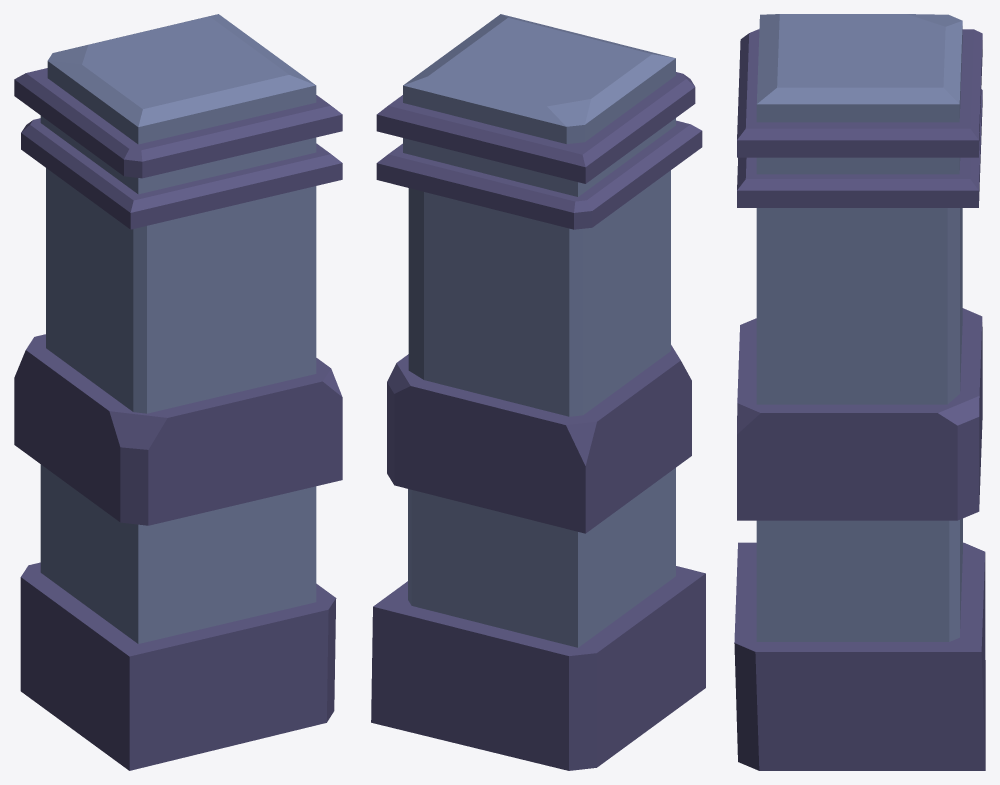
The model's file is Fence_Column_03.fbx.
3 renders of one model, left to right at view 1: azimuth 30°, elevation 25°; view 2: azimuth 150°, elevation 25°; view 3: azimuth 270°, elevation 25°, orthographic. The views are drawn at different scales.
Visible parts, largest first — view 1: Fence_Column_03; view 2: Fence_Column_03; view 3: Fence_Column_03.
Part boxes in pixels (x1,y1,x2,y2): Fence_Column_03: [14, 14, 342, 770]; Fence_Column_03: [371, 14, 705, 770]; Fence_Column_03: [734, 14, 985, 770].
Size of the model in its own units: 78.67 by 223 by 76.44.
